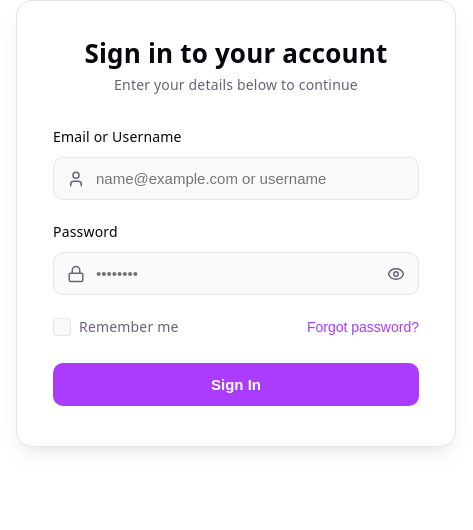
Scenario: LoginForm Component › validates empty inputs on form submission
Click the button "Sign In" at (236, 384), box [53, 363, 419, 406]
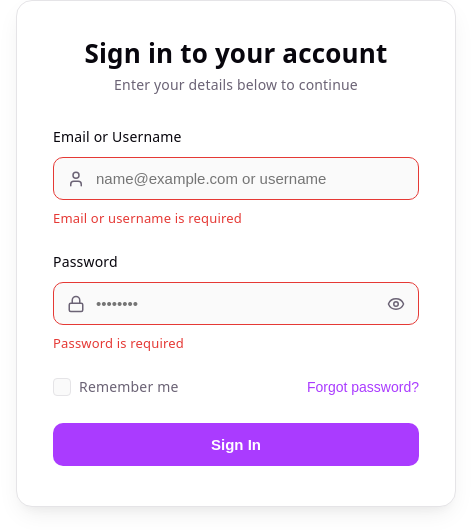
Check: the text "Email or username is required" is shown, box [53, 209, 242, 227]
Check: the text "Password is required" is shown, box [53, 334, 184, 352]
